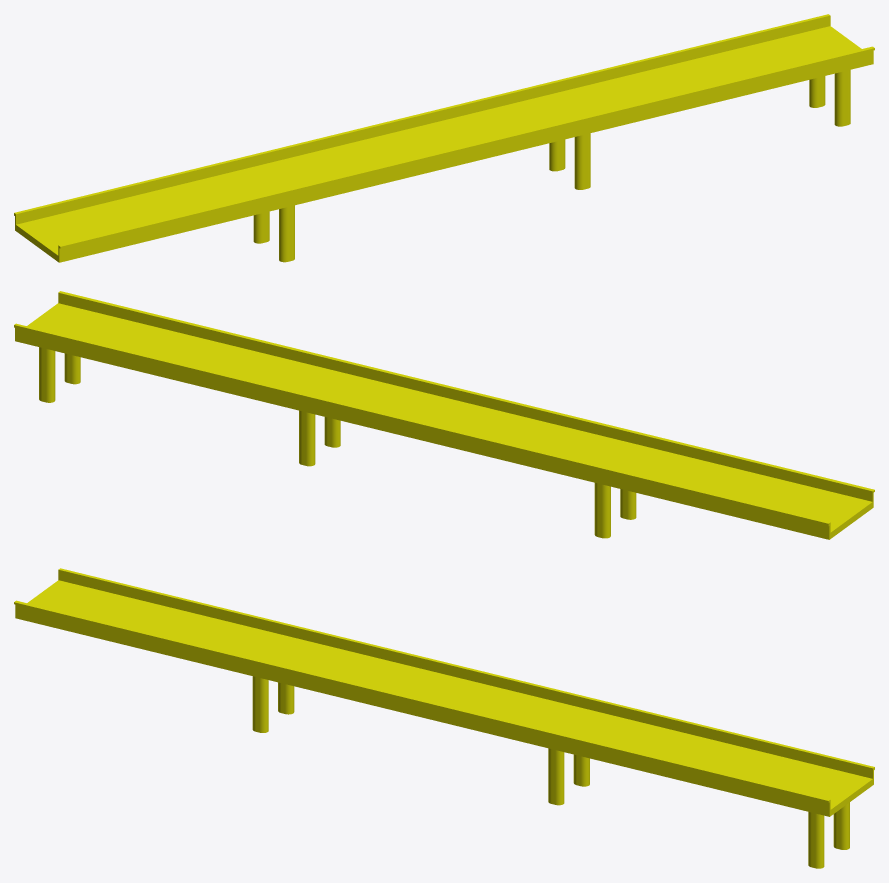
File: Bridge_2.fbx
3 renders of one model, top to bottom at view 1: azimuth 30°, elevation 25°; view 2: azimuth 150°, elevation 25°; view 3: azimuth 330°, elevation 25°, orthographic.
Parts seen in each view (by area): view 1: pCube13; view 2: pCube13; view 3: pCube13.
Part boxes in pixels (x1,y1,x2,y2): pCube13: (14,14,874,262); pCube13: (14,291,874,539); pCube13: (14,568,874,868).
Bounding box in the file's own units: 167 × 15.19 × 16.49.
